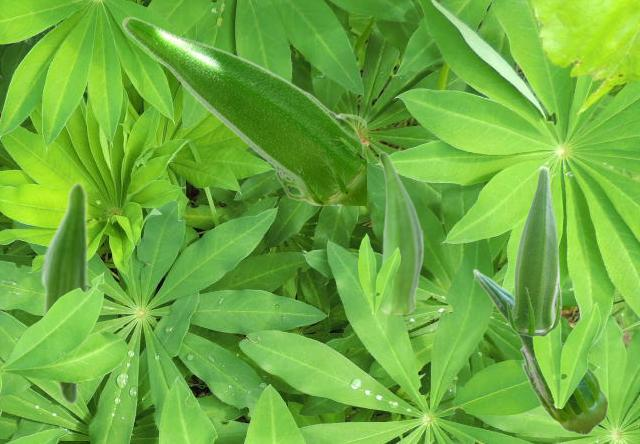okra: (121, 16, 365, 204), (472, 268, 608, 434), (38, 181, 89, 405), (506, 165, 561, 336), (378, 151, 423, 313)
